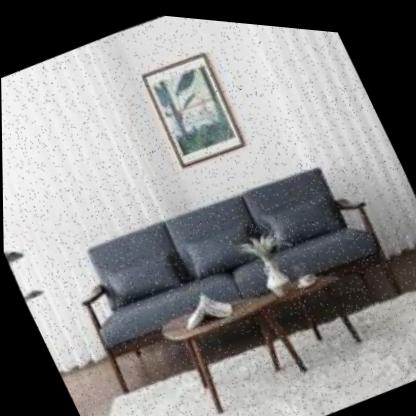Sofa: (28, 89, 416, 416)
